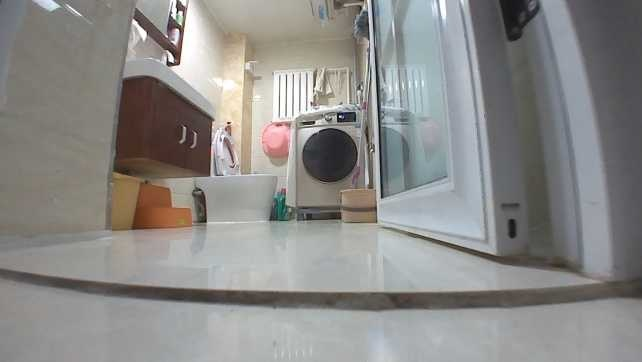door_sill: (1, 264, 611, 314)
toilet: (196, 145, 277, 224)
washing_machine: (288, 103, 366, 219)
washstand: (116, 55, 215, 180)
